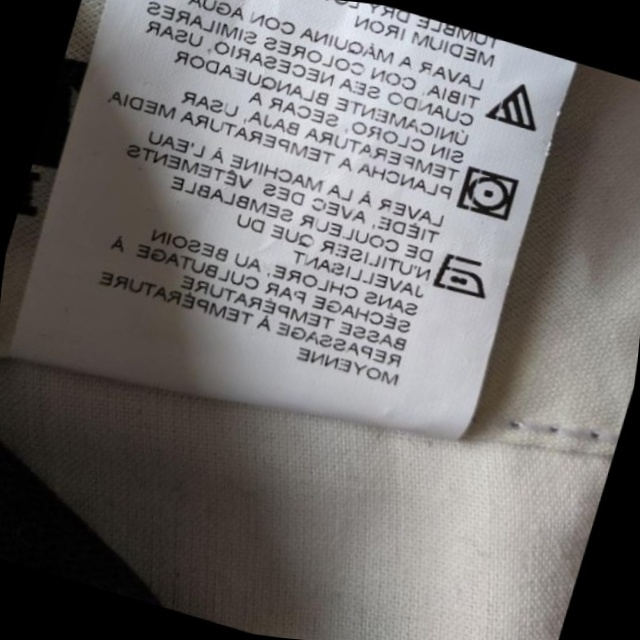iron_medium: (427, 244, 494, 302)
non_chlorine_bleach: (477, 69, 551, 142)
tumble_dry_low: (451, 159, 528, 227)
